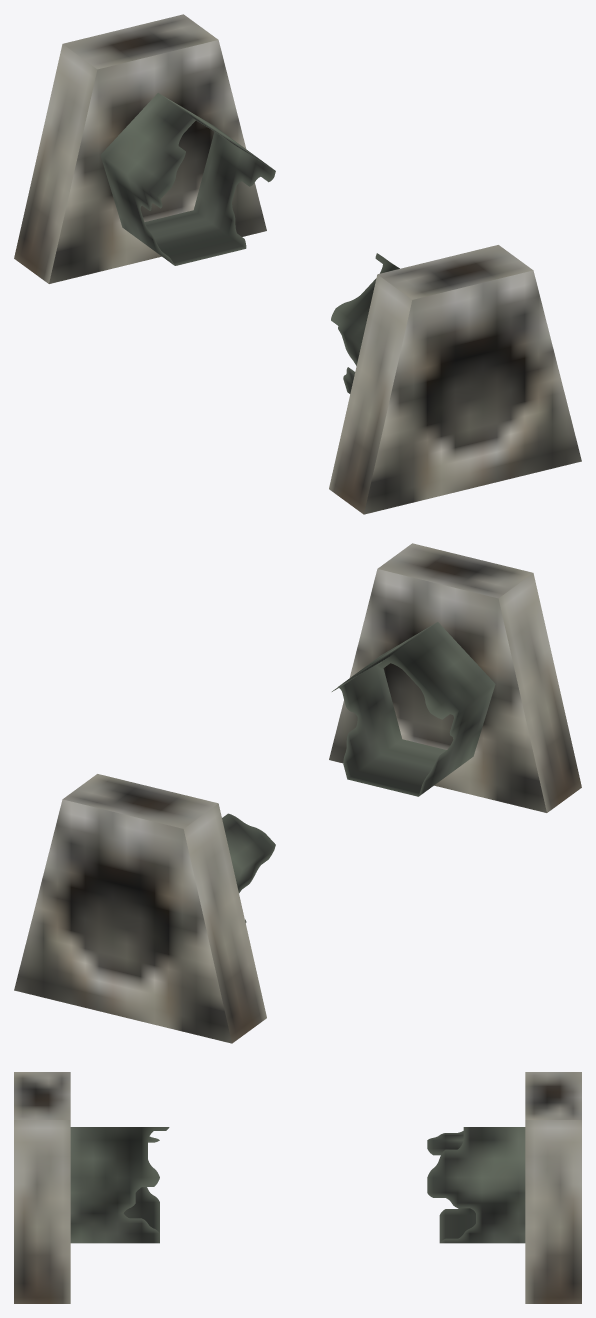
Rendered from straightpipe1_dam.glb.
3 renders of one model, top to bottom at view 1: azimuth 30°, elevation 25°; view 2: azimuth 150°, elevation 25°; view 3: azimuth 270°, elevation 25°, orthographic. The views are drawn at different scales.
Parts seen in each view (by area): view 1: straightpipe1_damaged; view 2: straightpipe1_damaged; view 3: straightpipe1_damaged.
Boxes of the visible parts, <box> form: straightpipe1_damaged: <box>14,14,581,514</box>; straightpipe1_damaged: <box>14,543,581,1043</box>; straightpipe1_damaged: <box>14,1072,581,1303</box>.
Bounding box in the file's own units: 3.07 × 2.73 × 8.52.
1 material, 1 textured.
